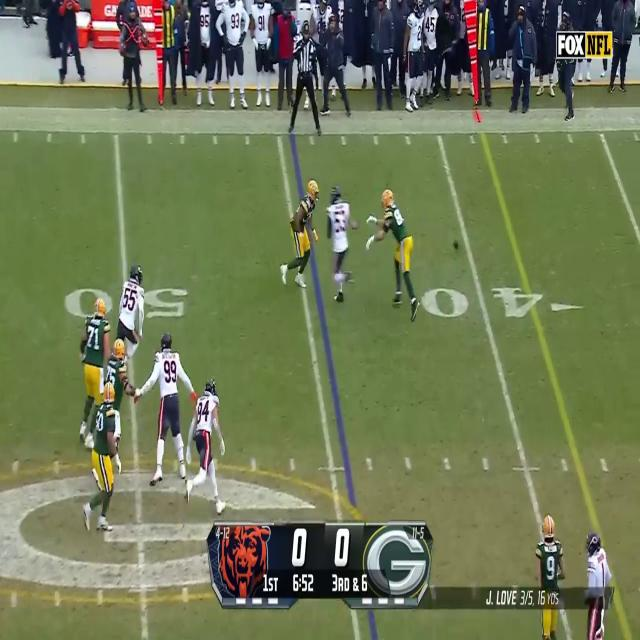Player: (375, 186, 414, 326), (153, 330, 185, 495), (89, 385, 123, 539), (323, 184, 357, 307), (192, 374, 222, 509), (287, 180, 319, 288), (83, 298, 107, 440), (535, 514, 560, 638), (585, 529, 611, 640), (103, 335, 130, 410), (120, 262, 144, 344)
Referee: (292, 24, 324, 135)
